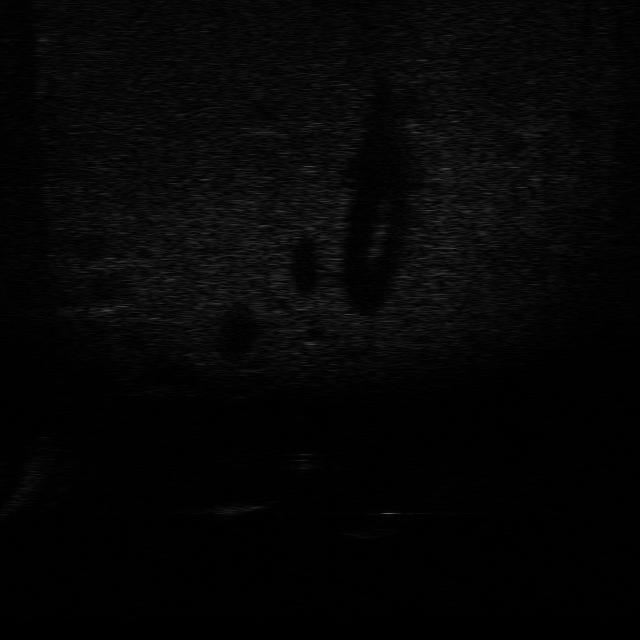ball: (280, 444, 322, 473)
square cage: (194, 493, 274, 522)
tyre: (334, 504, 410, 544)
